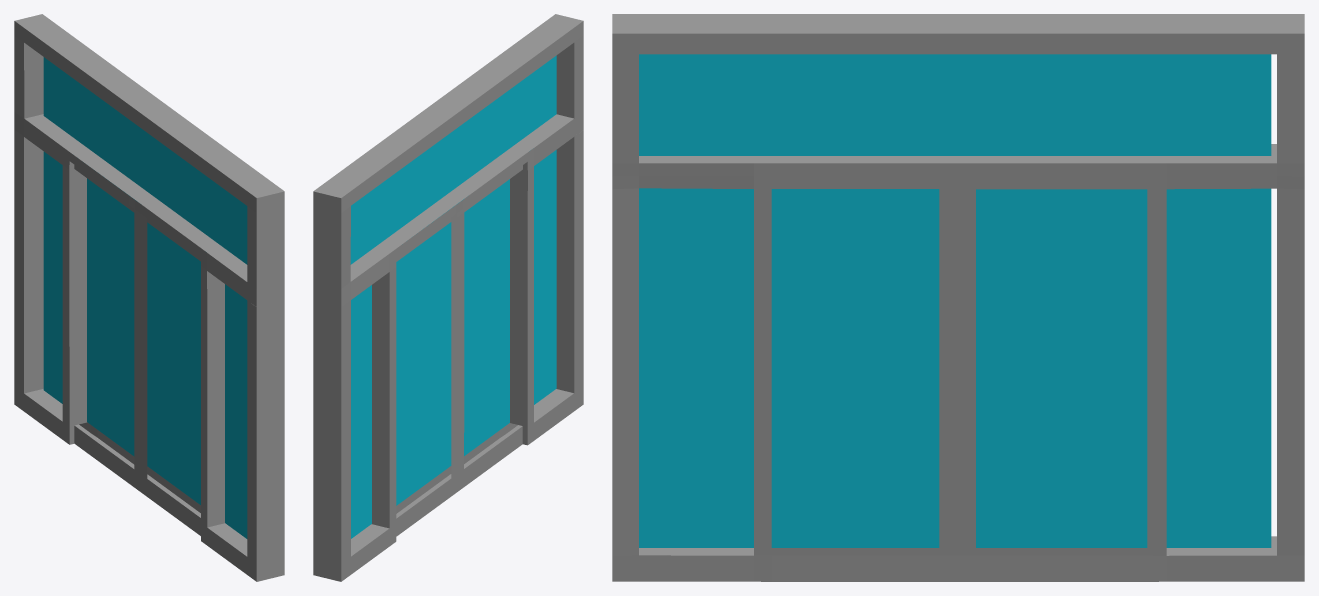
Rendered from puerta.fbx.
3 renders of one model, left to right at view 1: azimuth 30°, elevation 25°; view 2: azimuth 150°, elevation 25°; view 3: azimuth 270°, elevation 25°, orthographic. The views are drawn at different scales.
Parts seen in each view (by area): view 1: Cubo; view 2: Cubo; view 3: Cubo.
Part boxes in pixels (x1,y1,x2,y2): Cubo: [14, 14, 284, 581]; Cubo: [313, 14, 583, 581]; Cubo: [612, 14, 1304, 581].
Size of the model in its own units: 205 by 2621 by 3000.
